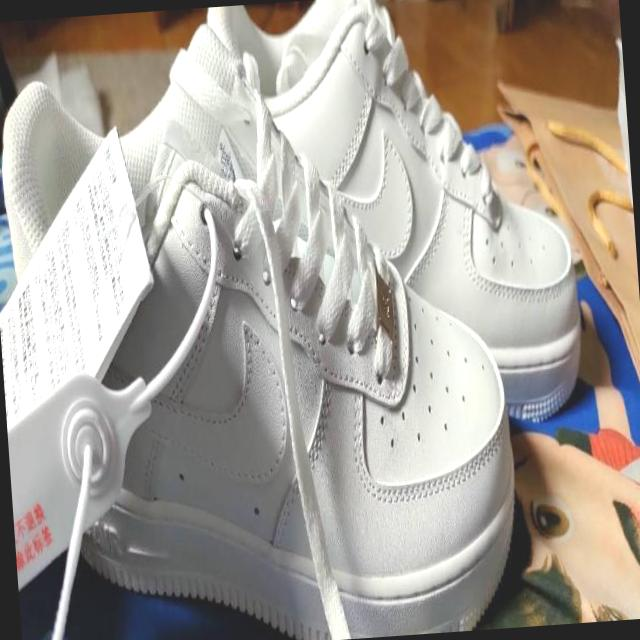nike_fake_airforce: (0, 2, 525, 640), (204, 0, 583, 439)
